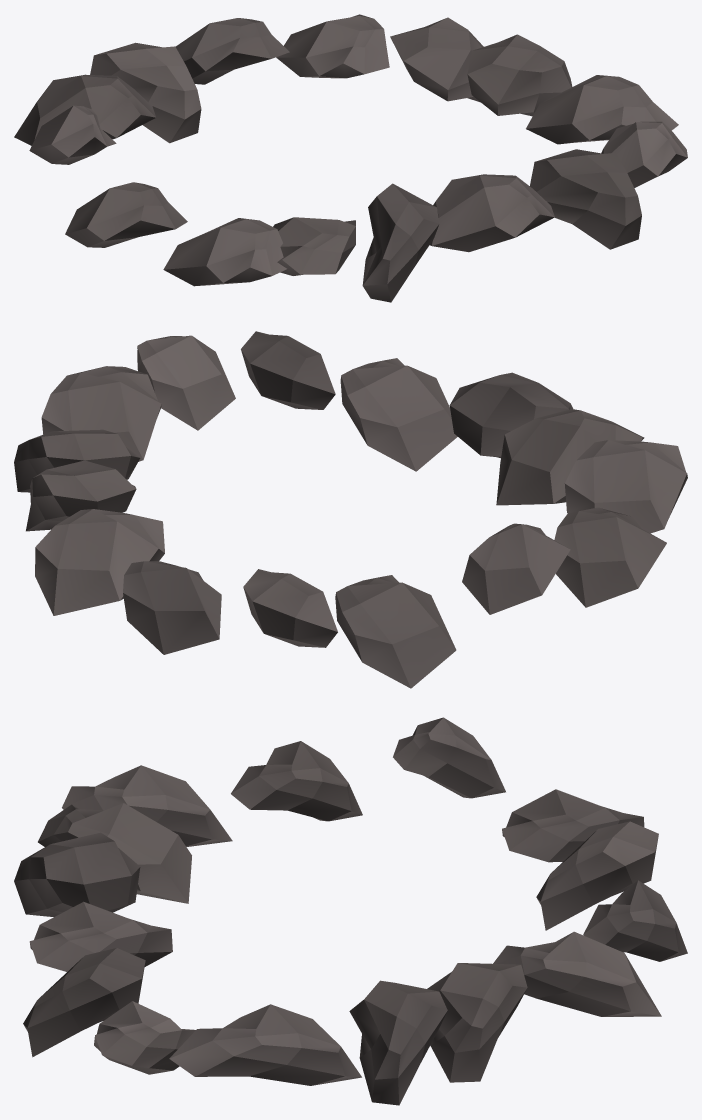
Rendered from Fire_rock.fbx.
The picture shows the model from 3 angles, top to bottom: view 1: azimuth 30°, elevation 25°; view 2: azimuth 150°, elevation 25°; view 3: azimuth 270°, elevation 25°; orthographic projection. The views are drawn at different scales.
Parts seen in each view (by area): view 1: Fire_rock; view 2: Fire_rock; view 3: Fire_rock.
Part boxes in pixels (bbox=[...]): Fire_rock: bbox=[14, 14, 687, 302]; Fire_rock: bbox=[14, 331, 687, 688]; Fire_rock: bbox=[14, 717, 687, 1105].
Bounding box in the file's own units: 147 × 26.72 × 132.
